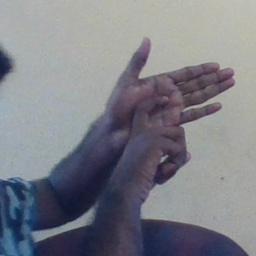R: (98, 35, 238, 175)
